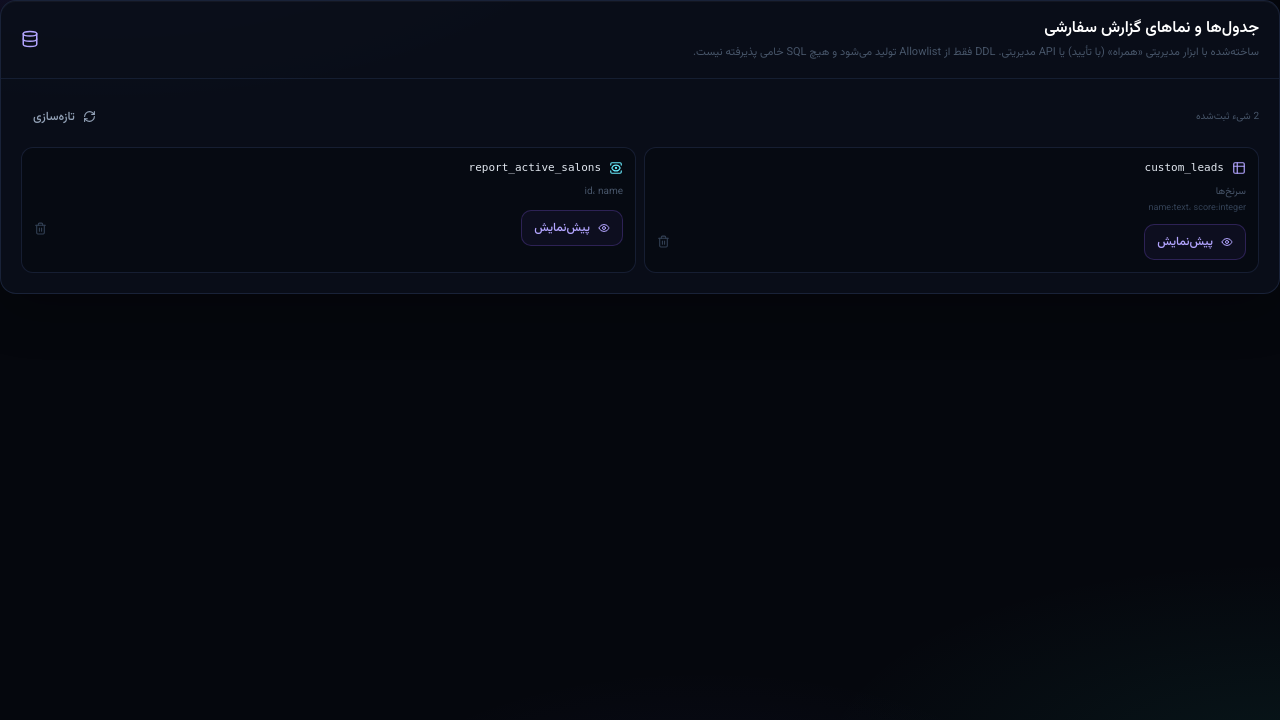
Test case: custom schema panel lists tables/views and previews rows
Check: the text "custom_leads" is shown, box [1144,160,1224,176]
Check: the text "report_active_salons" is shown, box [468,160,601,176]
Step 1. Click the button "پیش‌نمایش" below "name:text، score:integer" → (1195, 242), box [1144,224,1246,260]
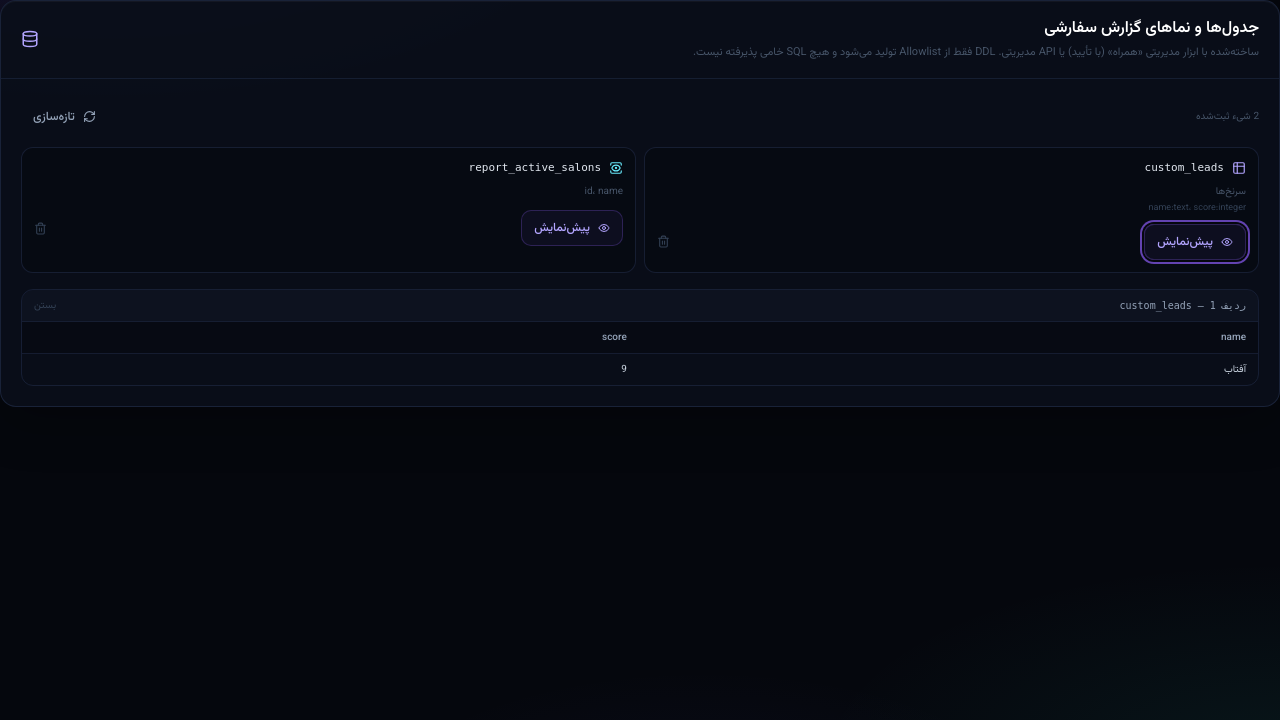
Check: the element with test id "custom-schema-preview" is shown, box [21,288,1259,386]
Check: the text "آفتاب" is shown, box [639,353,1258,384]
Check: the text "9" is shown, box [22,353,639,384]
